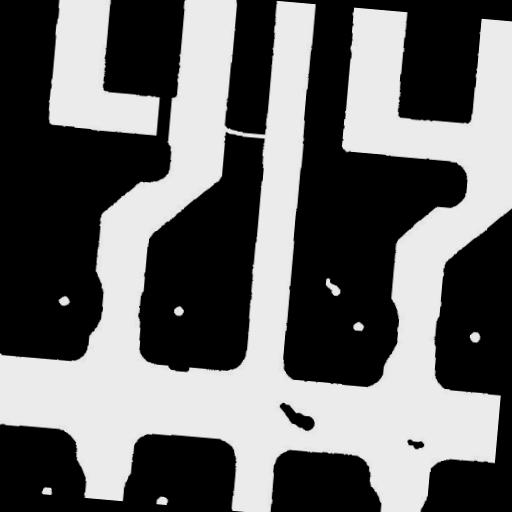copper: (270, 394, 324, 439), (398, 430, 432, 458)
open: (211, 116, 278, 147)
pin-hole: (316, 270, 349, 304)
short: (146, 82, 180, 154)
spur: (160, 354, 198, 380)
